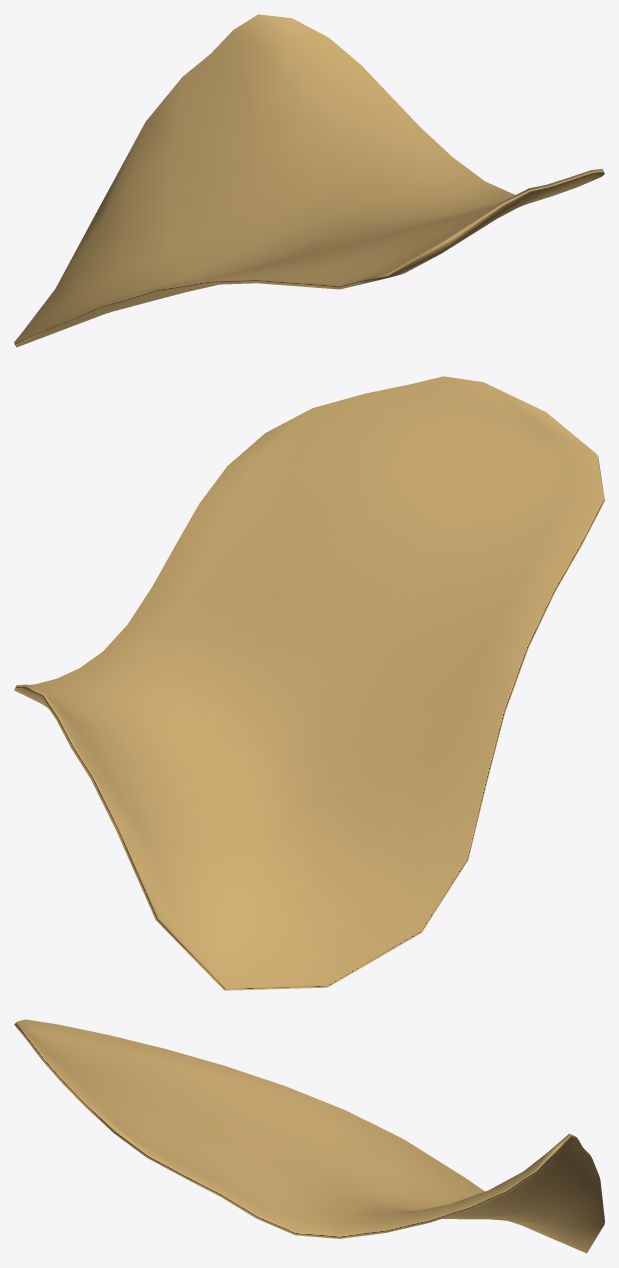
3 views of the same model, one above another, from view 1: azimuth 30°, elevation 25°; view 2: azimuth 150°, elevation 25°; view 3: azimuth 270°, elevation 25° (orthographic). The views are drawn at different scales.
Parts seen in each view (by area): view 1: 右侧骶髂前韧带; view 2: 右侧骶髂前韧带; view 3: 右侧骶髂前韧带.
Boxes of the visible parts, x1,y1,x2,y2 form: 右侧骶髂前韧带: [14, 14, 604, 347]; 右侧骶髂前韧带: [14, 376, 604, 990]; 右侧骶髂前韧带: [14, 1019, 604, 1253].
Bounding box in the file's own units: 0.0592 × 0.0464 × 0.0933.
